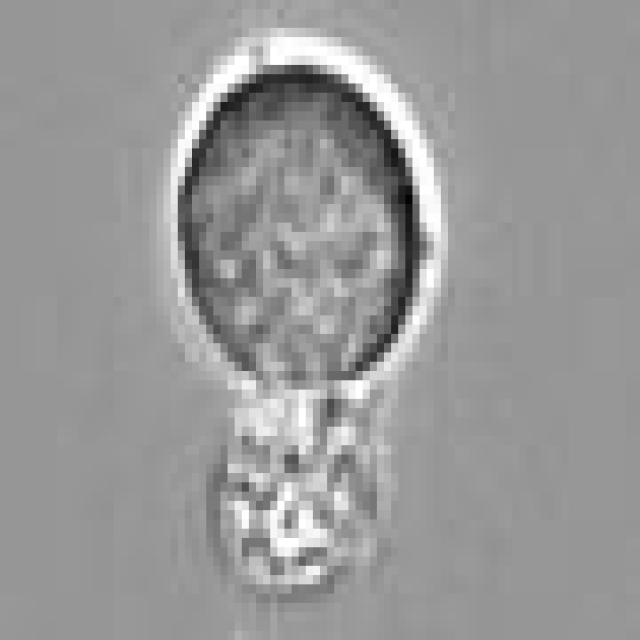Cancer Cell: (178, 65, 426, 380)
WBC: (220, 380, 377, 594)
